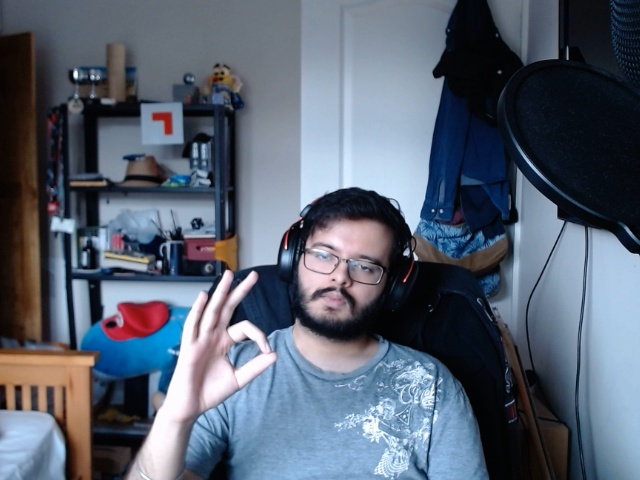Okay: (158, 263, 282, 431)
